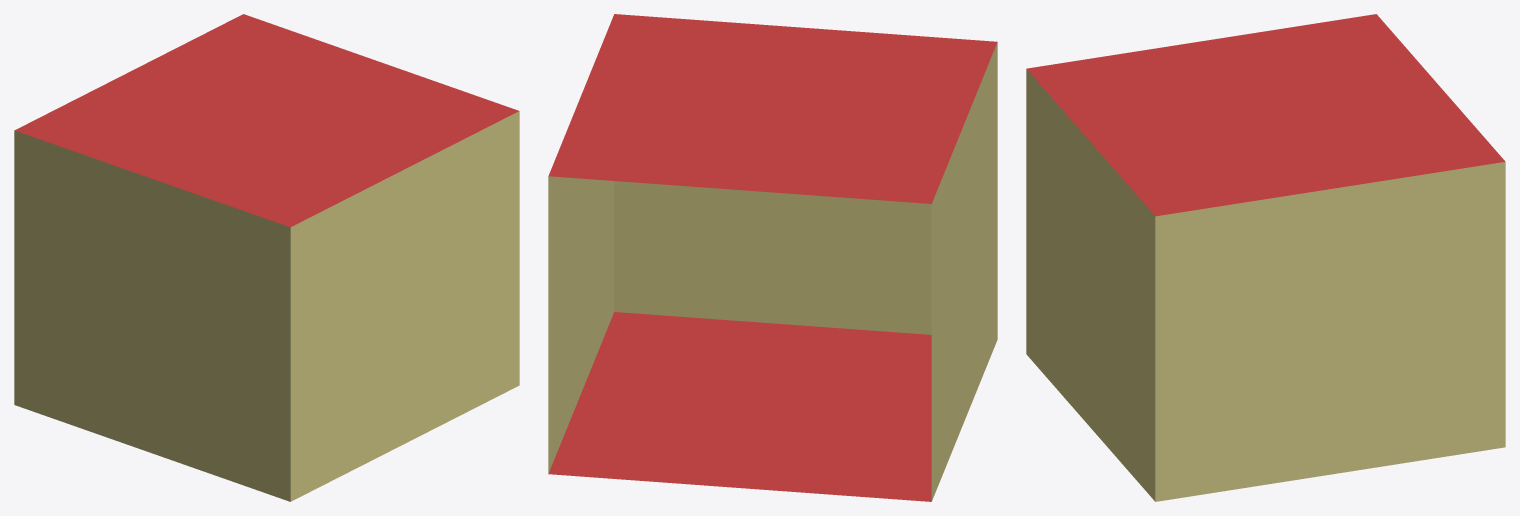
3 views of the same model, side by side, from view 1: azimuth 30°, elevation 25°; view 2: azimuth 150°, elevation 25°; view 3: azimuth 270°, elevation 25° (orthographic). The views are drawn at different scales.
Bounding box in the file's own units: 10.21 × 10.22 × 6.72.
